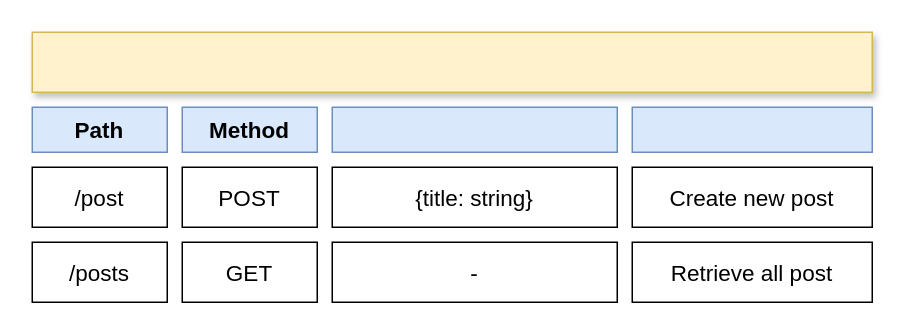
Image size: 908x329. Some labels were removed from this diagram. The shapes that lost their labels are listed below. From the top down, each one's centre as x and y in pixels, then its label:
(453,64): Post Service
(474,129): Body?
(751,129): Goal
